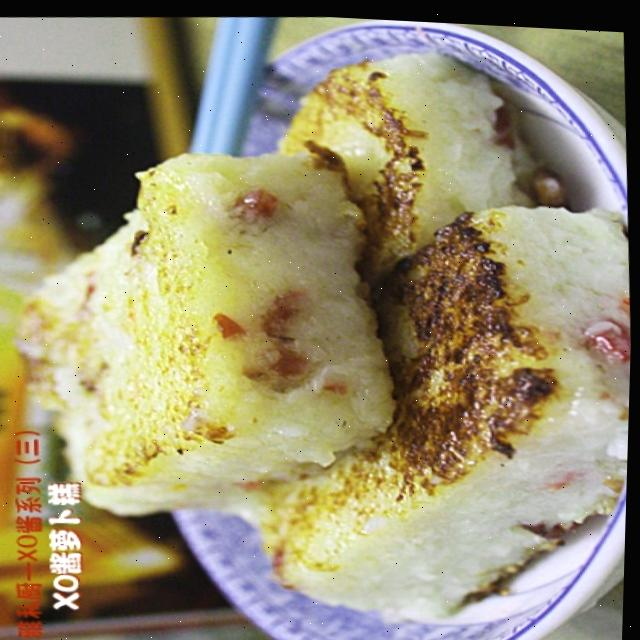蛋糕甜品: (0, 13, 640, 640)
